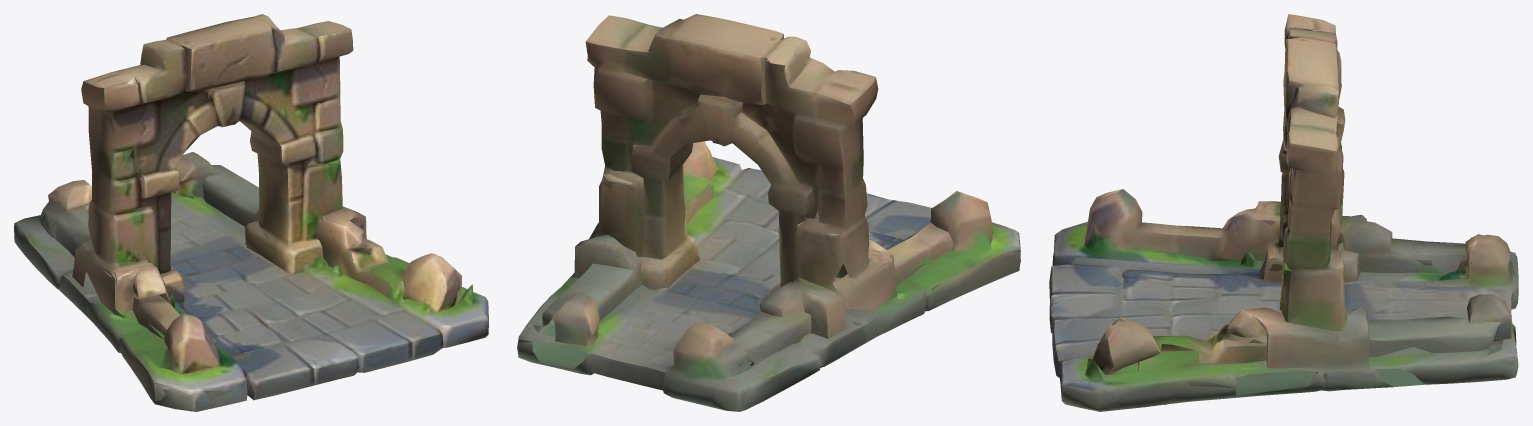
File: imperialRoad.glb
3 views of the same model, side by side, from view 1: azimuth 30°, elevation 25°; view 2: azimuth 150°, elevation 25°; view 3: azimuth 270°, elevation 25° (orthographic). The views are drawn at different scales.
Visible parts, largest first — view 1: level; view 2: level; view 3: level.
Part boxes in pixels (x1,y1,x2,y2): level: (14,14,488,411); level: (517,14,1020,411); level: (1049,14,1518,411).
Bounding box in the file's own units: 0.8027 × 0.5947 × 0.9258.
Materials: 1 (1 with a texture image).
